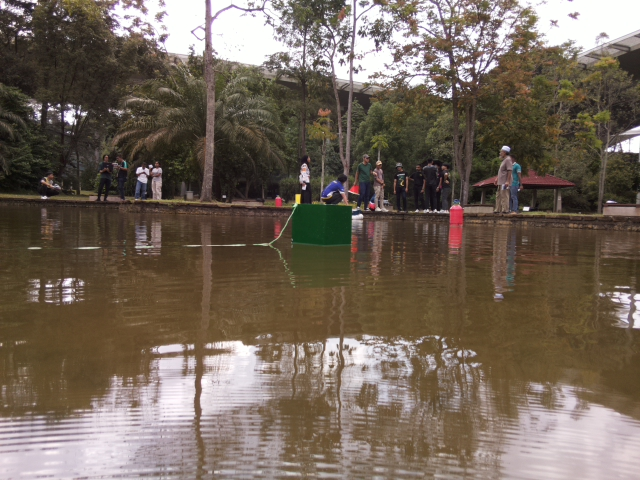obstacle: (291, 203, 353, 249)
